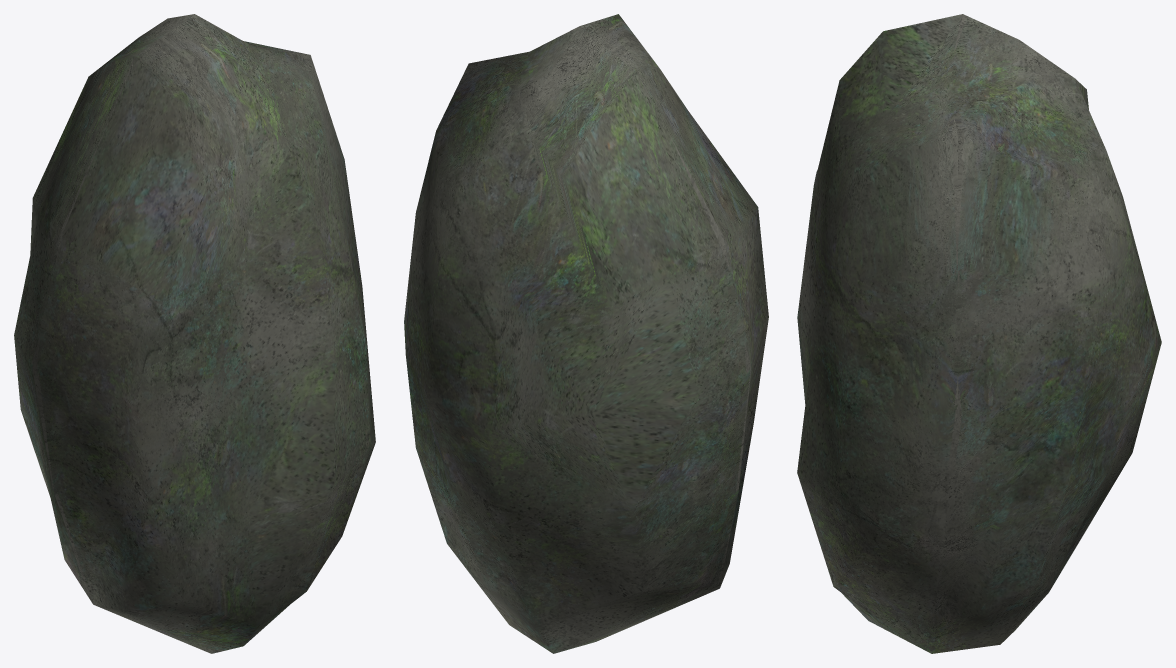
File: Boulder 1 - LOD 2.fbx
3 renders of one model, left to right at view 1: azimuth 30°, elevation 25°; view 2: azimuth 150°, elevation 25°; view 3: azimuth 270°, elevation 25°, orthographic.
Parts seen in each view (by area): view 1: Boulder 1 - LOD 2; view 2: Boulder 1 - LOD 2; view 3: Boulder 1 - LOD 2.
Part boxes in pixels (box(x1,y1,x2,y2)): Boulder 1 - LOD 2: box(14, 14, 375, 653); Boulder 1 - LOD 2: box(404, 14, 768, 653); Boulder 1 - LOD 2: box(797, 14, 1161, 653).
Size of the model in its own units: 4.32 by 7.81 by 4.06.
